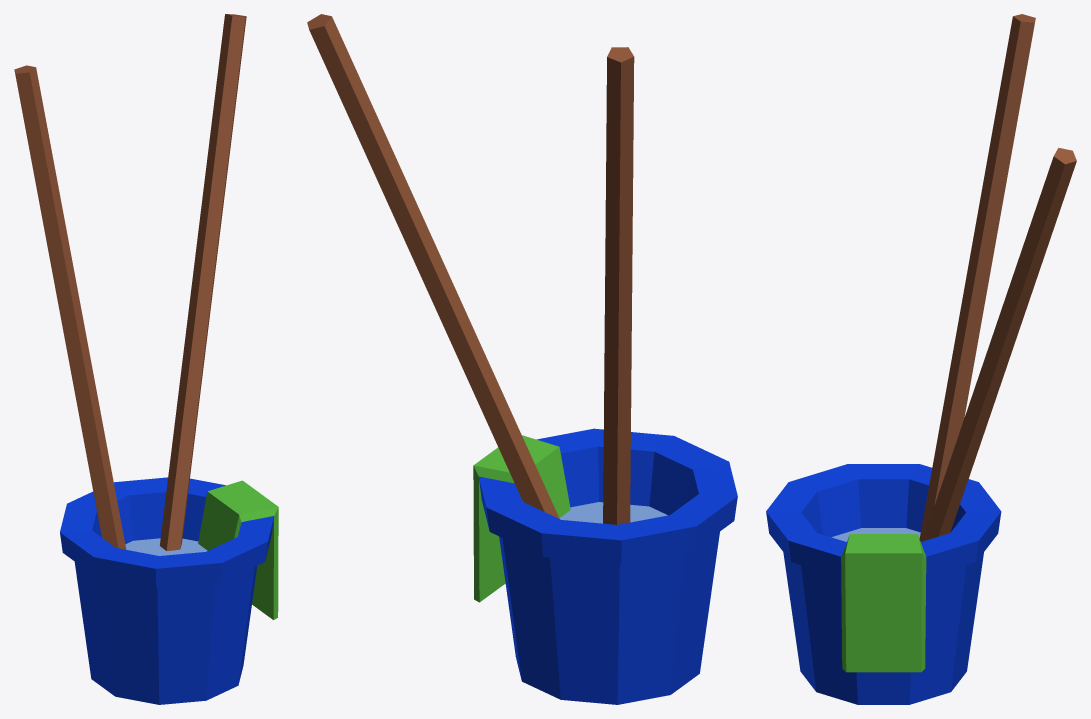
Rendered from BucketWithMop.fbx.
The picture shows the model from 3 angles, left to right: view 1: azimuth 30°, elevation 25°; view 2: azimuth 150°, elevation 25°; view 3: azimuth 270°, elevation 25°; orthographic projection. The views are drawn at different scales.
Parts seen in each view (by area): view 1: BucketWithMop; view 2: BucketWithMop; view 3: BucketWithMop.
Part boxes in pixels (x1,y1,x2,y2): BucketWithMop: (14,14,278,704); BucketWithMop: (307,14,737,704); BucketWithMop: (766,14,1076,704).
Size of the model in its own units: 80.54 by 174 by 79.6.
